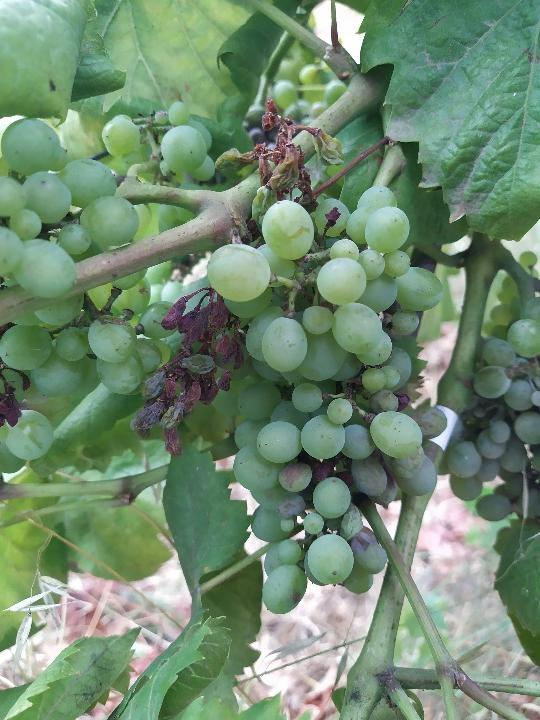grape: (201, 137, 453, 618)
